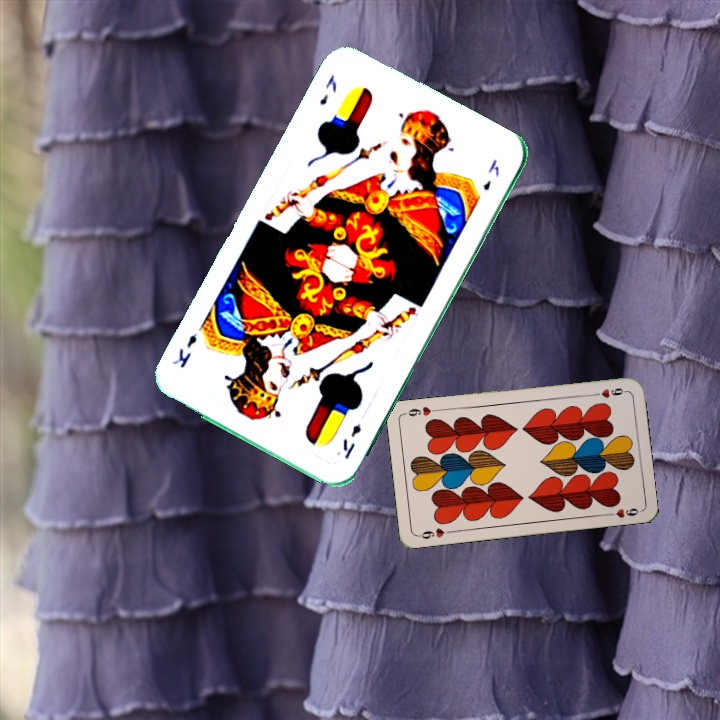EK: (338, 420, 364, 462), (315, 70, 340, 108)
H9: (414, 524, 454, 542), (588, 384, 628, 401)
